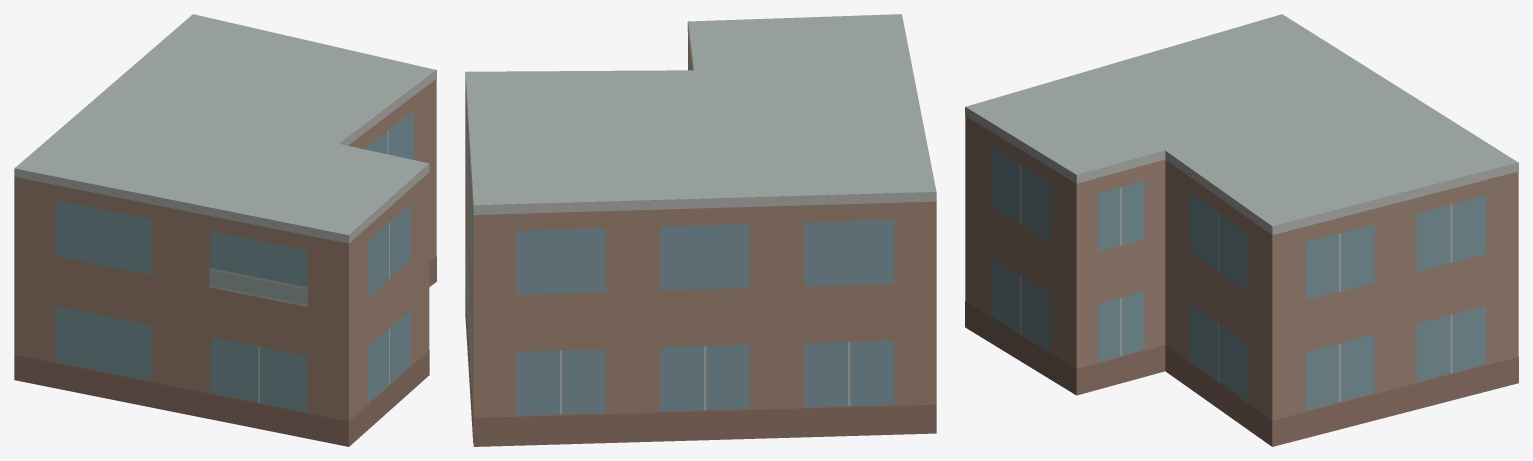
The model's file is survey-upis-32763308.glb.
3 renders of one model, left to right at view 1: azimuth 30°, elevation 25°; view 2: azimuth 150°, elevation 25°; view 3: azimuth 270°, elevation 25°, orthographic. The views are drawn at different scales.
Visible parts, largest first — view 1: survey-upis-32763308.tmp; view 2: survey-upis-32763308.tmp; view 3: survey-upis-32763308.tmp.
Boxes of the visible parts, x1=… form: survey-upis-32763308.tmp: x1=14, y1=14, x2=436, y2=446; survey-upis-32763308.tmp: x1=465, y1=14, x2=936, y2=446; survey-upis-32763308.tmp: x1=965, y1=14, x2=1518, y2=446.
Bounding box in the file's own units: 12.6 × 6.1 × 13.89.
